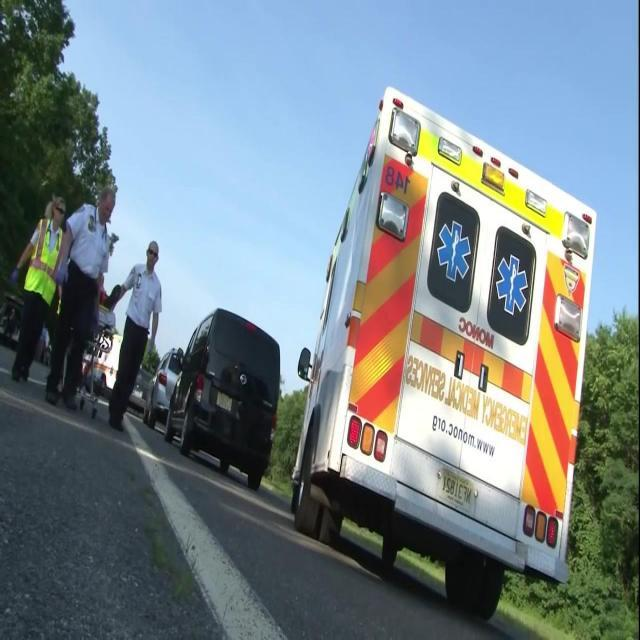reflective_jacket: (18, 217, 73, 319)
